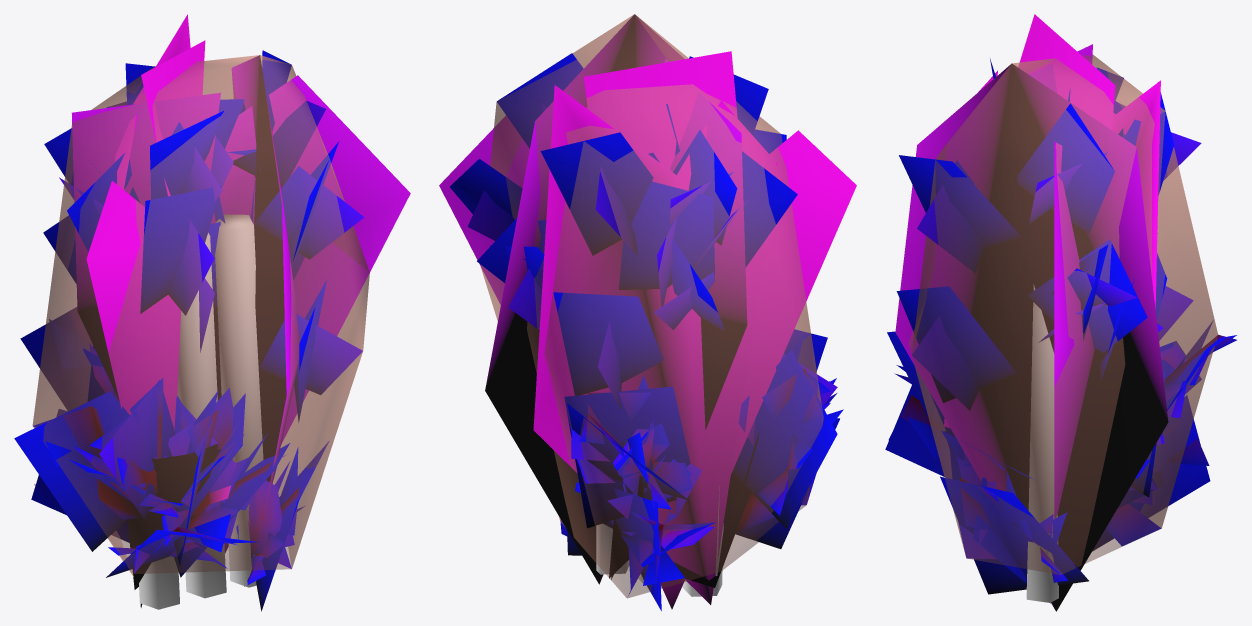
Rendered from tree_beech_blocker_a.dae.
3 renders of one model, left to right at view 1: azimuth 30°, elevation 25°; view 2: azimuth 150°, elevation 25°; view 3: azimuth 270°, elevation 25°, orthographic. The views are drawn at different scales.
Parts seen in each view (by area): view 1: Colmesh_blocker-1, beech_blocker_a350, beech_blocker_a200, beech_blocker_a100; view 2: Colmesh_blocker-1, beech_blocker_a350, beech_blocker_a200, beech_blocker_a100; view 3: Colmesh_blocker-1, beech_blocker_a100, beech_blocker_a350, beech_blocker_a200.
Part boxes in pixels (left/top/right/bottom): Colmesh_blocker-1: left=32, top=55, right=369, bottom=609; beech_blocker_a350: left=33, top=40, right=410, bottom=589; beech_blocker_a200: left=14, top=14, right=338, bottom=611; beech_blocker_a100: left=88, top=77, right=300, bottom=577; Colmesh_blocker-1: left=480, top=14, right=823, bottom=598; beech_blocker_a350: left=439, top=14, right=856, bottom=609; beech_blocker_a200: left=477, top=15, right=850, bottom=609; beech_blocker_a100: left=585, top=52, right=856, bottom=610; Colmesh_blocker-1: left=908, top=54, right=1217, bottom=602; beech_blocker_a100: left=885, top=20, right=1236, bottom=611; beech_blocker_a350: left=888, top=31, right=1236, bottom=582; beech_blocker_a200: left=912, top=14, right=1173, bottom=478.
Size of the model in its own units: 4.96 by 3.89 by 6.64.
